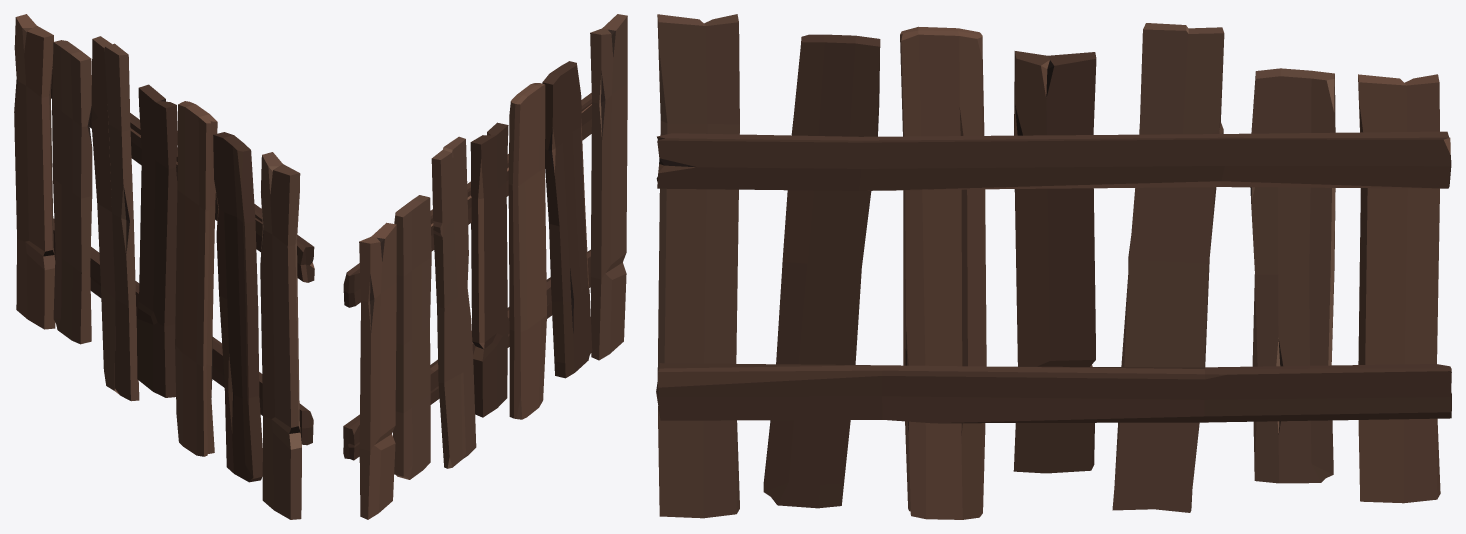
Rendered from FenceWoodMedium_02.glb.
3 renders of one model, left to right at view 1: azimuth 30°, elevation 25°; view 2: azimuth 150°, elevation 25°; view 3: azimuth 270°, elevation 25°, orthographic. The views are drawn at different scales.
Visible parts, largest first — view 1: FenceWoodMedium_02; view 2: FenceWoodMedium_02; view 3: FenceWoodMedium_02.
Boxes of the visible parts, <box> form: FenceWoodMedium_02: <box>14,14,314,519</box>; FenceWoodMedium_02: <box>343,14,627,519</box>; FenceWoodMedium_02: <box>656,14,1451,519</box>.
Size of what is drawn, in the model's own units: 0.1716 by 2.07 by 3.
Materials: 1 (1 with a texture image).
